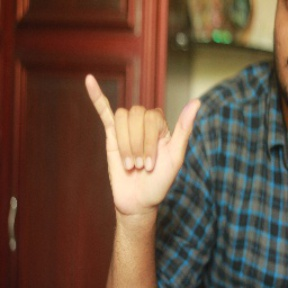J: (81, 70, 204, 210)
